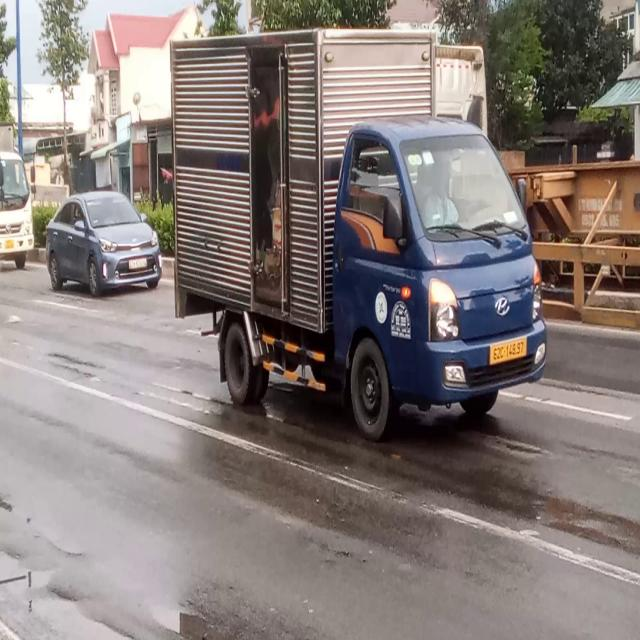bien_vang: (485, 330, 531, 367)
